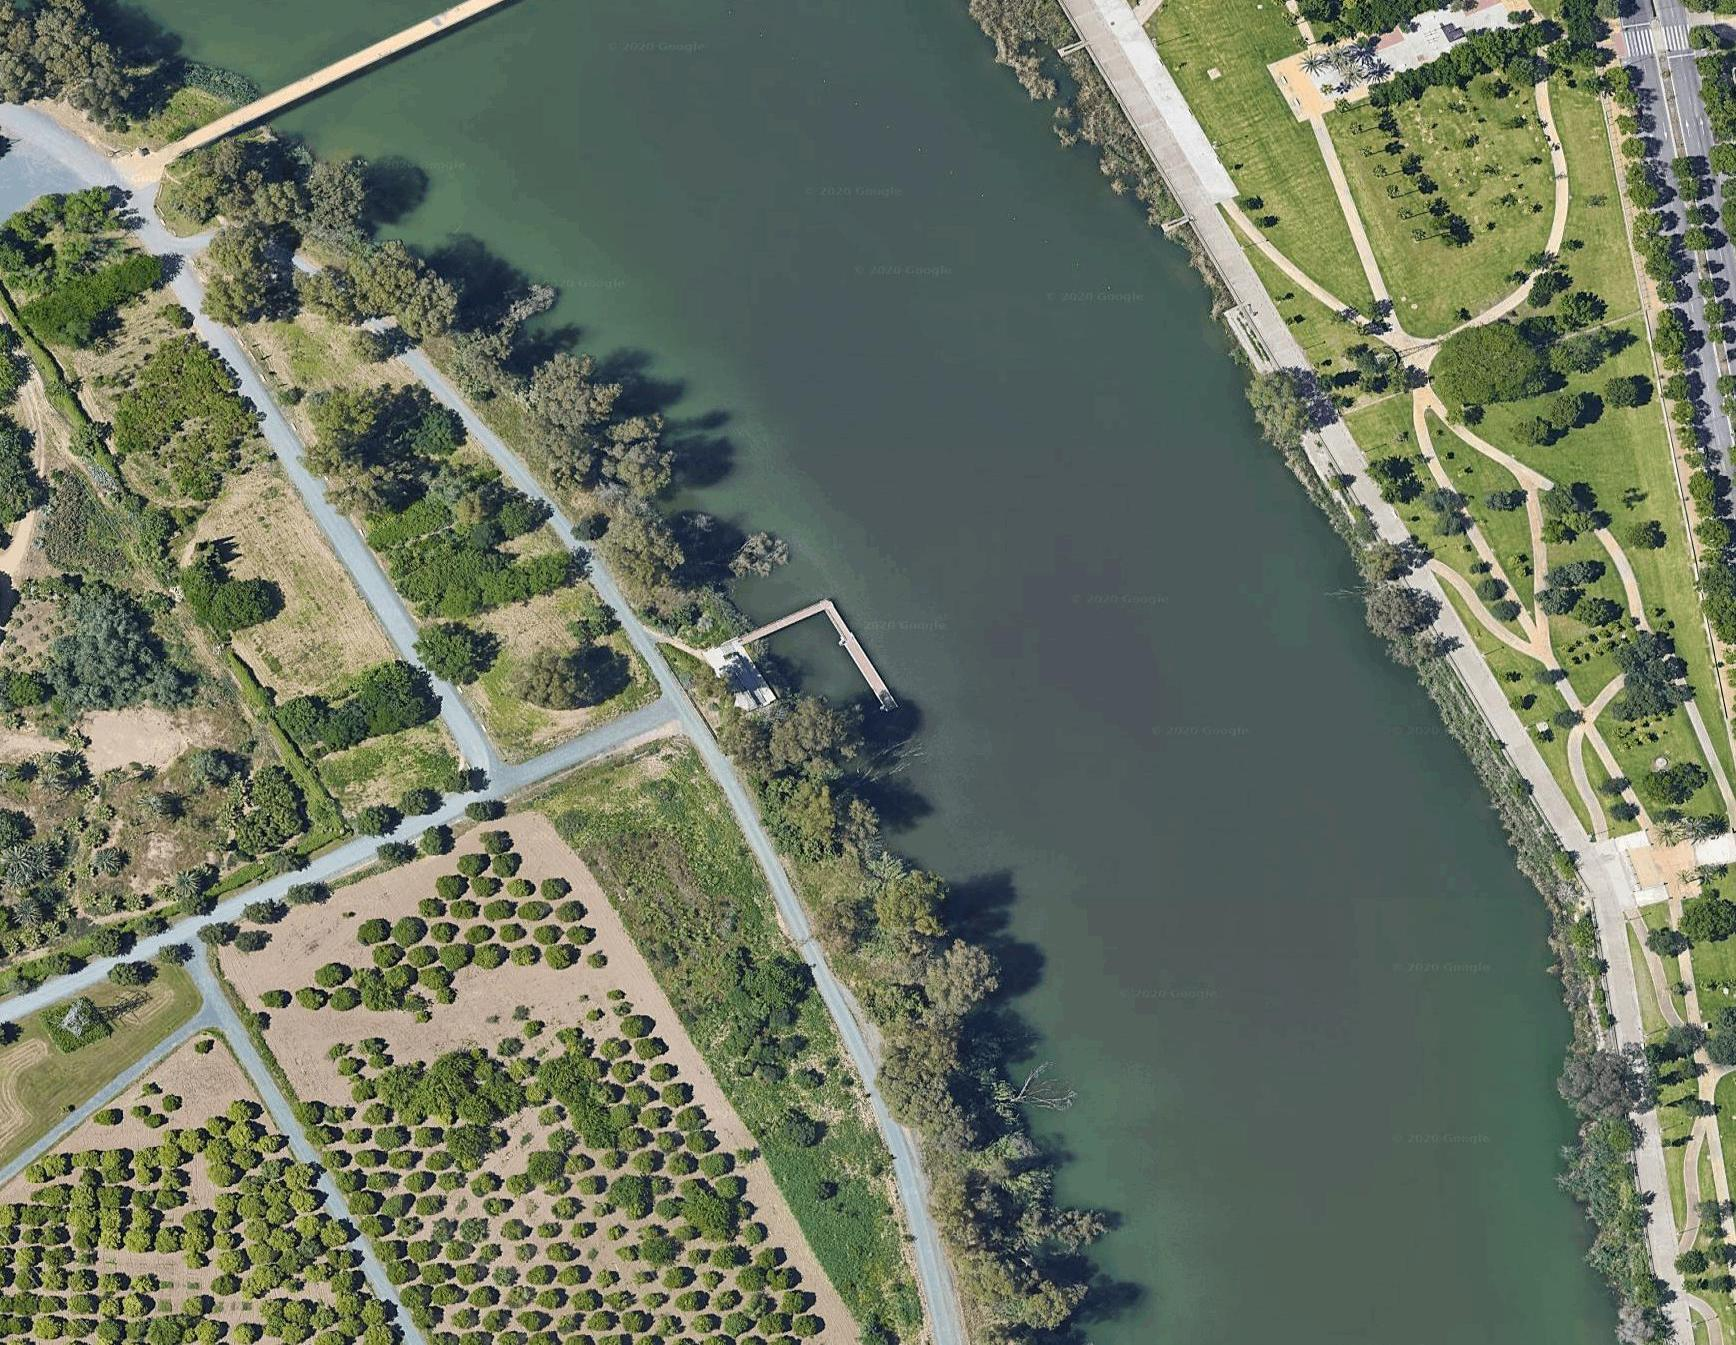bridge: (200, 1, 576, 142)
harbor: (743, 593, 893, 725)
